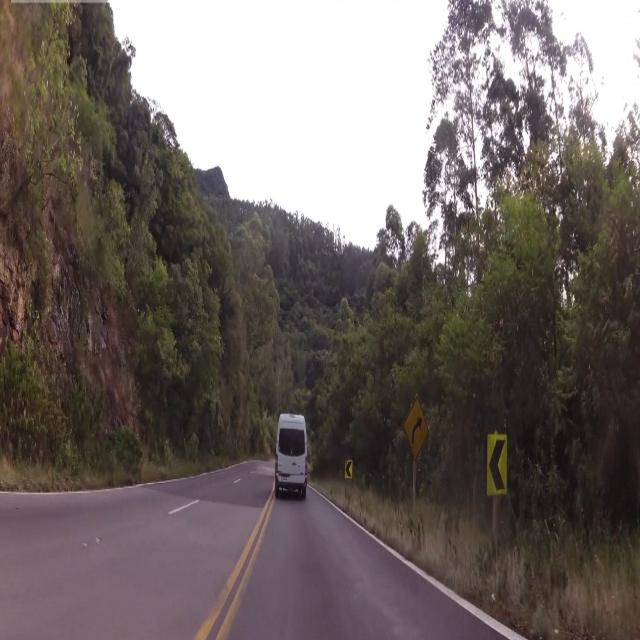A-2b: (402, 395, 432, 462)
Del: (486, 429, 507, 505)
